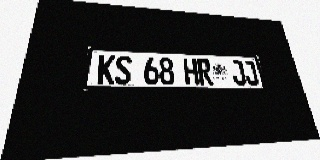6: (144, 57, 159, 85)
8: (159, 57, 175, 85)
H: (183, 58, 199, 85)
J: (230, 60, 247, 85), (242, 60, 259, 85)
K: (97, 55, 115, 84)
R: (197, 59, 213, 85)
S: (115, 55, 131, 84)
